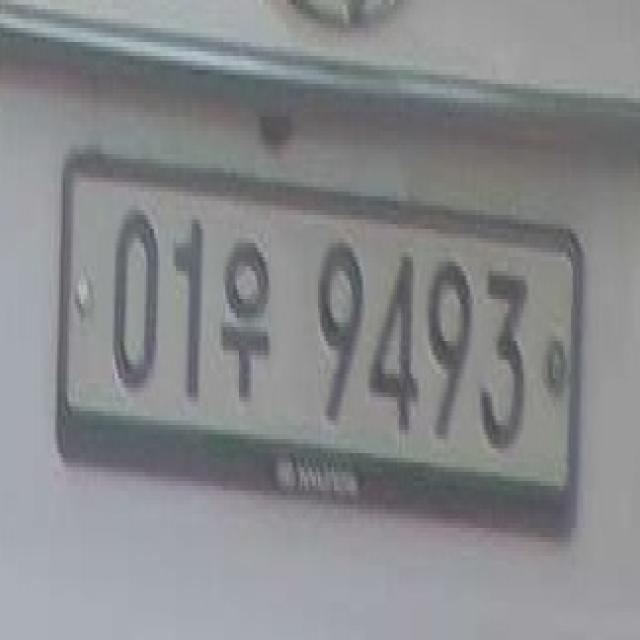0: (102, 190, 165, 410)
1: (170, 210, 211, 412)
3: (478, 264, 540, 452)
4: (372, 236, 422, 462)
9: (311, 220, 368, 435), (424, 251, 476, 456)
license_plate: (47, 128, 598, 550)
u: (219, 221, 276, 424)
